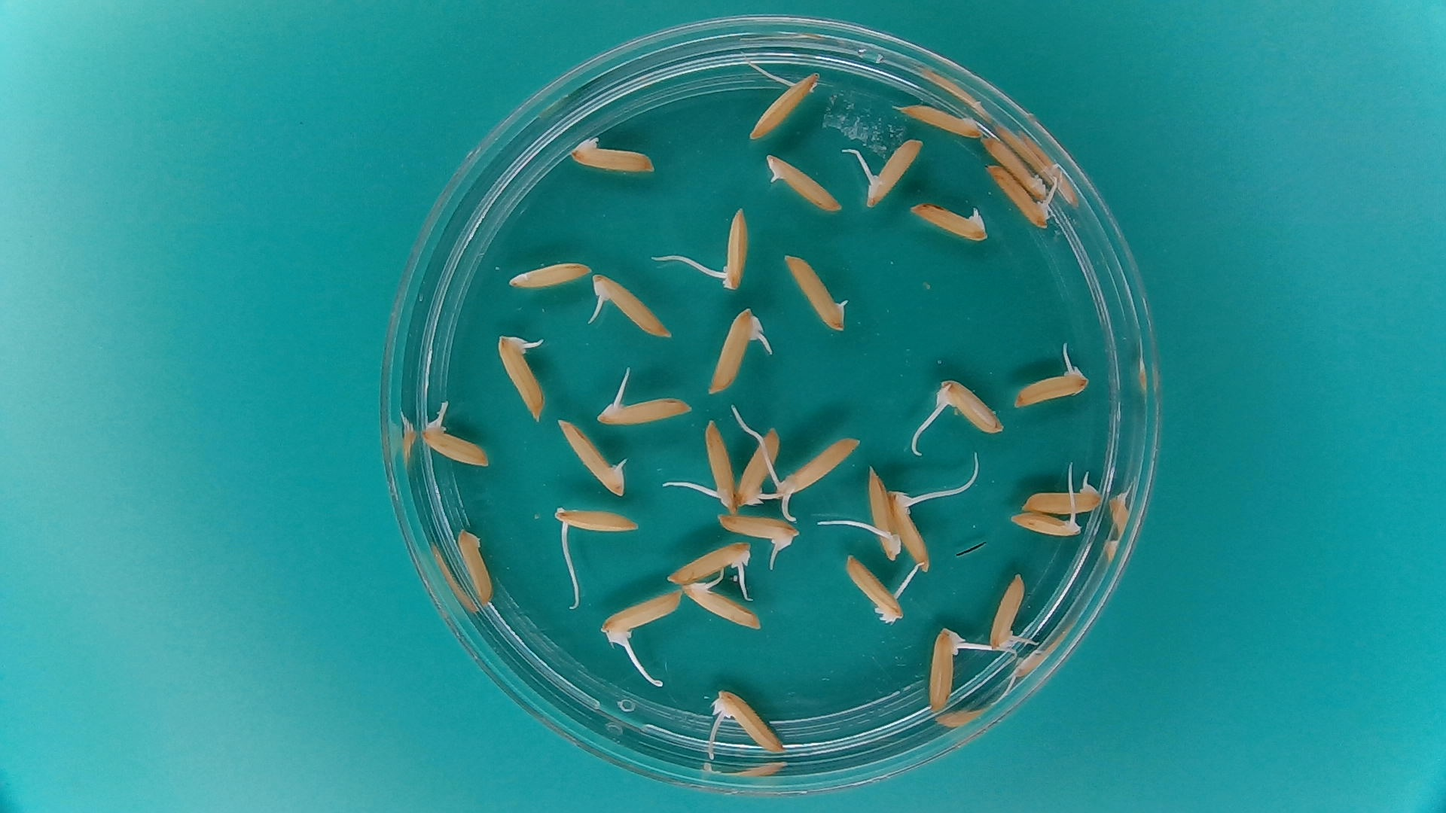no: (981, 129, 1051, 198), (565, 137, 662, 175), (895, 99, 986, 138), (454, 527, 496, 607), (504, 257, 593, 292)
yes: (587, 270, 675, 342), (555, 416, 630, 496), (781, 249, 852, 333), (777, 437, 865, 499), (761, 151, 845, 215), (751, 67, 823, 141), (599, 586, 685, 644), (713, 690, 788, 756), (706, 308, 762, 396), (981, 163, 1053, 229), (496, 337, 550, 424), (680, 577, 765, 632), (864, 134, 924, 209), (932, 378, 1006, 438), (664, 538, 755, 586), (844, 555, 905, 623), (906, 197, 992, 243), (734, 422, 779, 508), (1017, 475, 1109, 514), (593, 392, 690, 428), (1010, 365, 1087, 410), (715, 206, 753, 294), (985, 574, 1027, 653), (926, 626, 964, 712), (888, 492, 929, 571), (424, 422, 494, 468), (703, 422, 738, 513), (712, 511, 800, 547), (554, 501, 640, 537), (869, 466, 900, 558), (1007, 509, 1086, 540)
